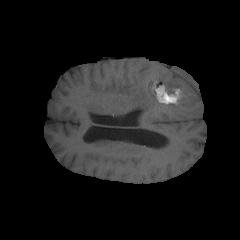glioma: (126, 63, 197, 116)
